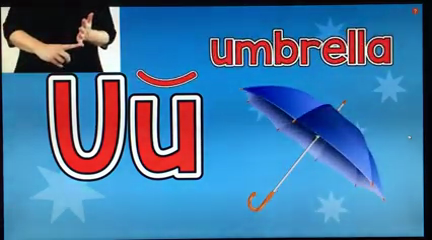U: (35, 7, 98, 70)
